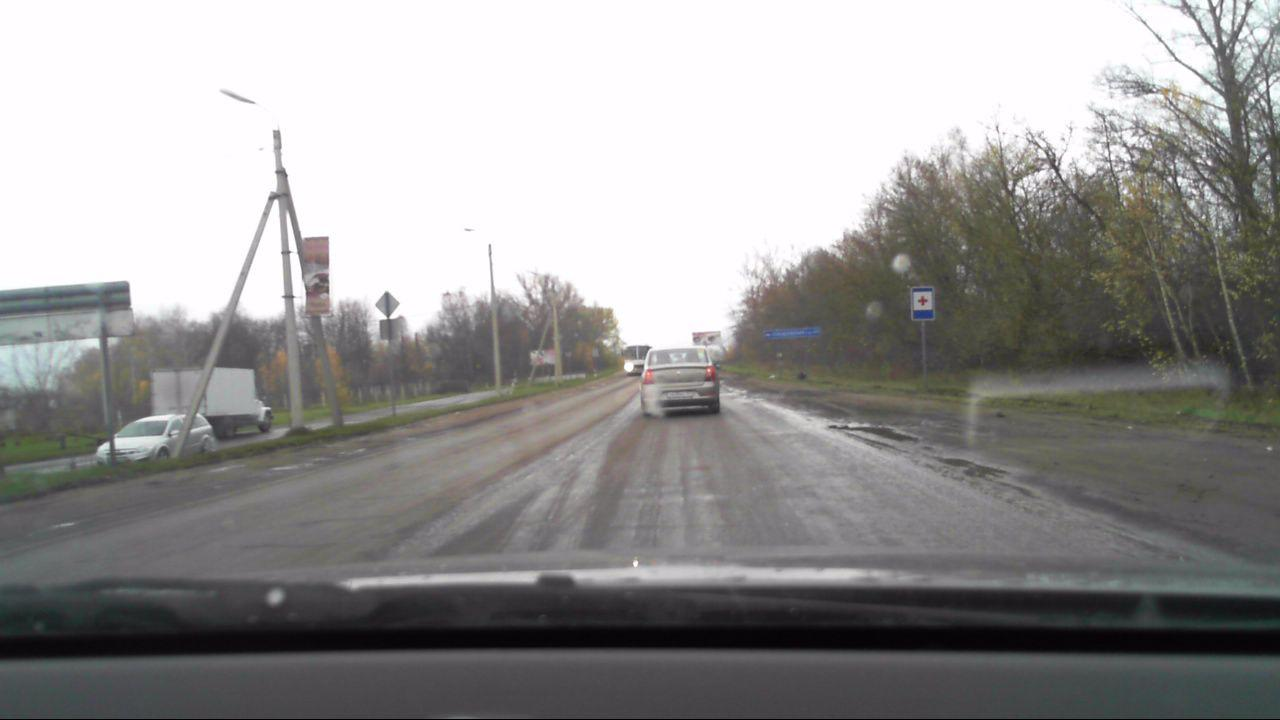7_1: (909, 285, 935, 322)
